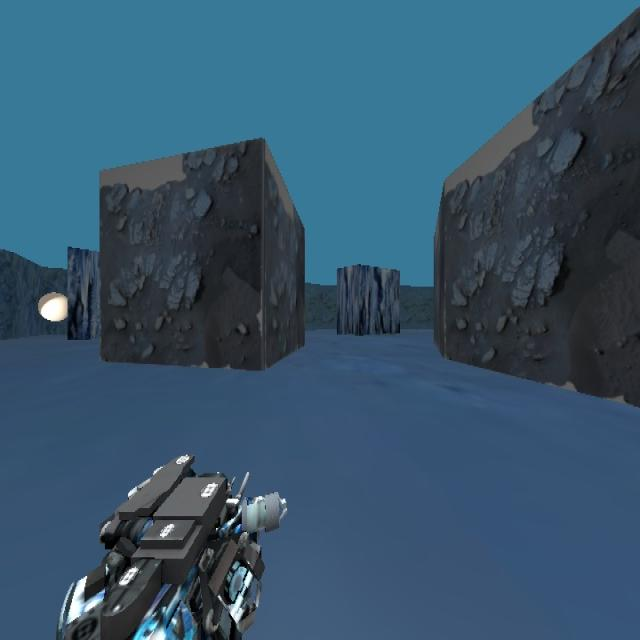Circle: (38, 290, 68, 322)
